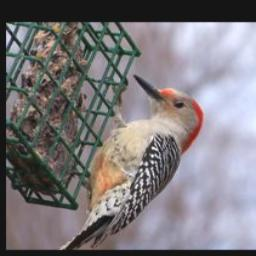Woodpecker: (67, 76, 204, 249)
